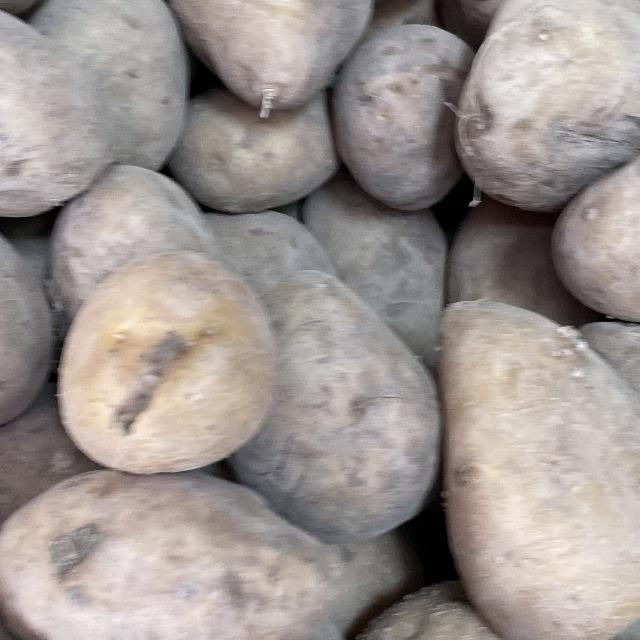potato: (412, 250, 640, 640), (38, 222, 282, 490), (417, 0, 640, 205), (0, 0, 140, 247), (155, 0, 375, 127), (535, 137, 640, 357)
